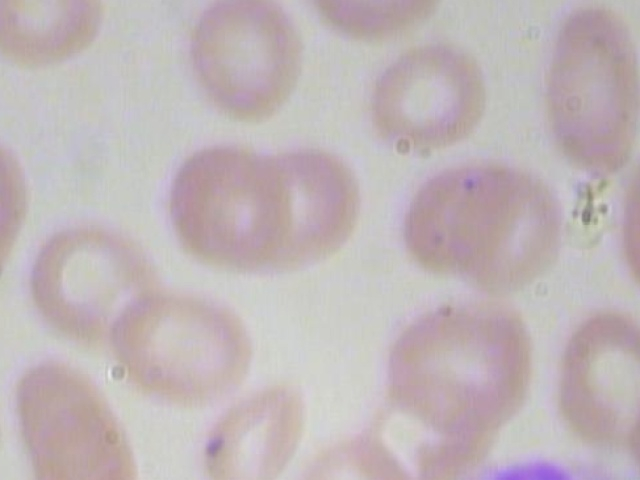RBC: (105, 272, 258, 417), (18, 208, 171, 353), (384, 294, 539, 432), (155, 129, 295, 270), (541, 0, 640, 180), (171, 0, 311, 127), (257, 135, 380, 276), (394, 152, 524, 284), (452, 166, 581, 299), (364, 40, 503, 161), (181, 361, 321, 480), (4, 352, 129, 476), (277, 0, 468, 42), (276, 430, 432, 480), (0, 0, 103, 68), (21, 425, 146, 480), (0, 113, 36, 299), (0, 334, 19, 479)
WBC: (387, 453, 640, 480)
